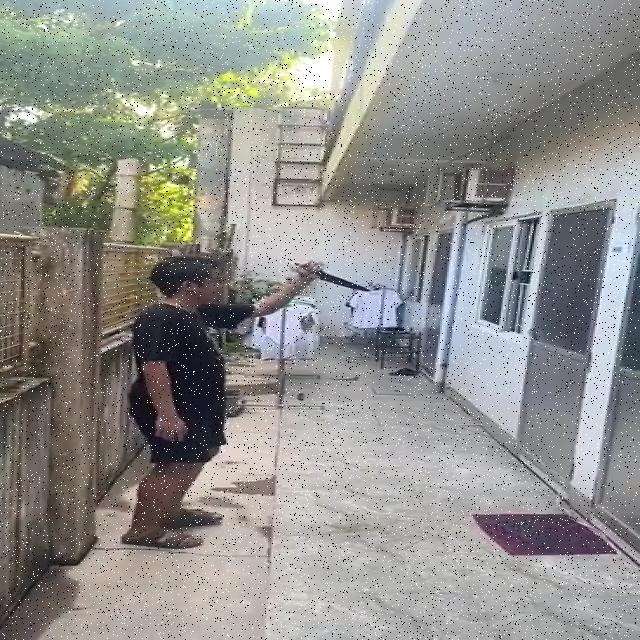knife: (294, 262, 372, 294)
non-violence: (119, 256, 371, 548)
